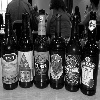beer: (17, 13, 35, 89)
